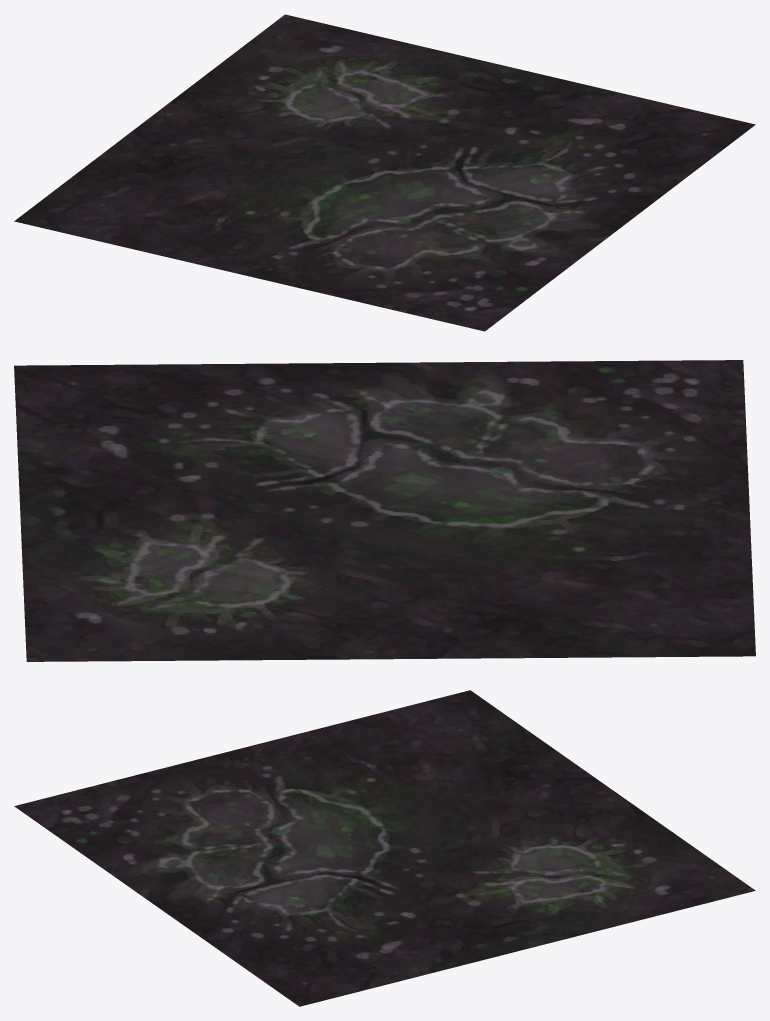
Rendered from cave_floor_mushrooms_06.fbx.
3 views of the same model, one above another, from view 1: azimuth 30°, elevation 25°; view 2: azimuth 150°, elevation 25°; view 3: azimuth 270°, elevation 25° (orthographic). The views are drawn at different scales.
Visible parts, largest first — view 1: cave_tileset/Floormushrooms_01_mat; view 2: cave_tileset/Floormushrooms_01_mat; view 3: cave_tileset/Floormushrooms_01_mat.
Boxes of the visible parts, x1,y1,x2,y2 form: cave_tileset/Floormushrooms_01_mat: [14, 14, 755, 331]; cave_tileset/Floormushrooms_01_mat: [14, 360, 755, 661]; cave_tileset/Floormushrooms_01_mat: [14, 690, 755, 1006].
Bounding box in the file's own units: 3.14 × 0 × 3.11.
